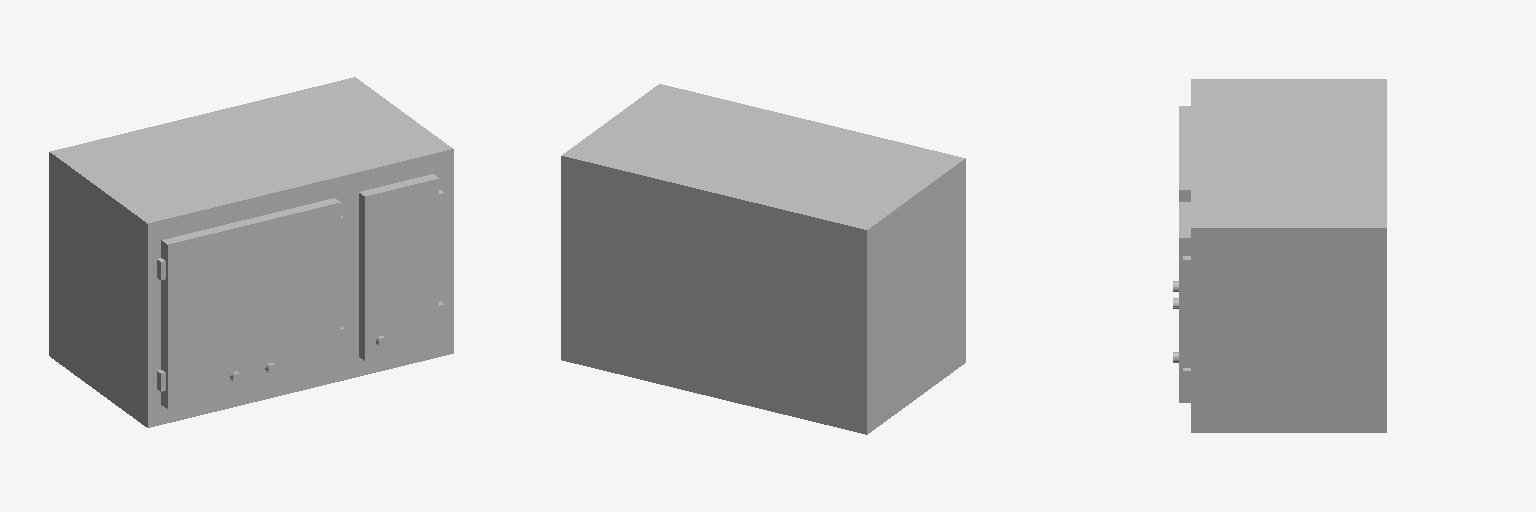
The model's file is alacena_superior.obj.
3 renders of one model, left to right at view 1: azimuth 30°, elevation 25°; view 2: azimuth 150°, elevation 25°; view 3: azimuth 270°, elevation 25°, orthographic.
Parts seen in each view (by area): view 1: pCube1; view 2: pCube1; view 3: pCube1.
Part boxes in pixels (x1,y1,x2,y2): pCube1: (49,77,453,427); pCube1: (561,84,965,434); pCube1: (1179,79,1386,432).
Size of the model in its own units: 4.34 by 2.78 by 2.64.